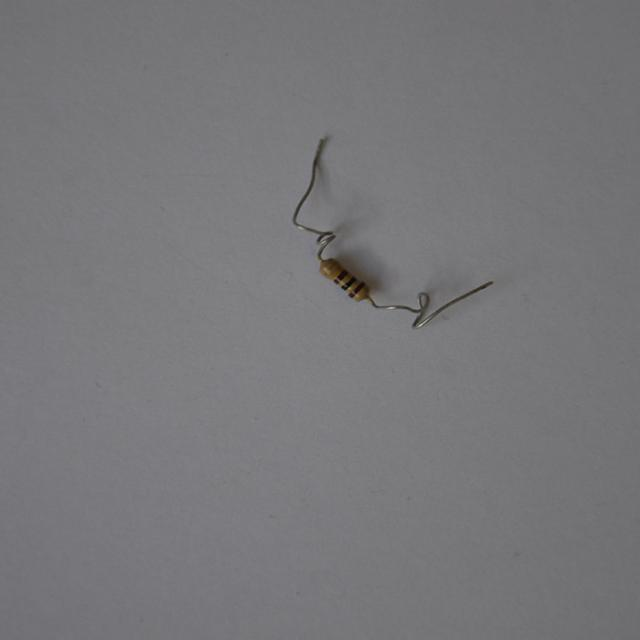Resistor Carbon-Film: (311, 254, 377, 308)
